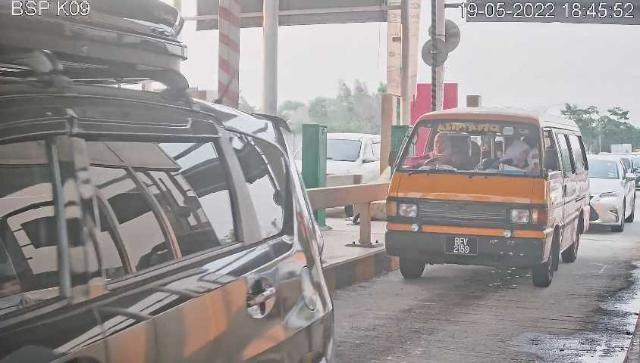License_Plate: (444, 235, 481, 259)
van: (387, 107, 590, 289)
